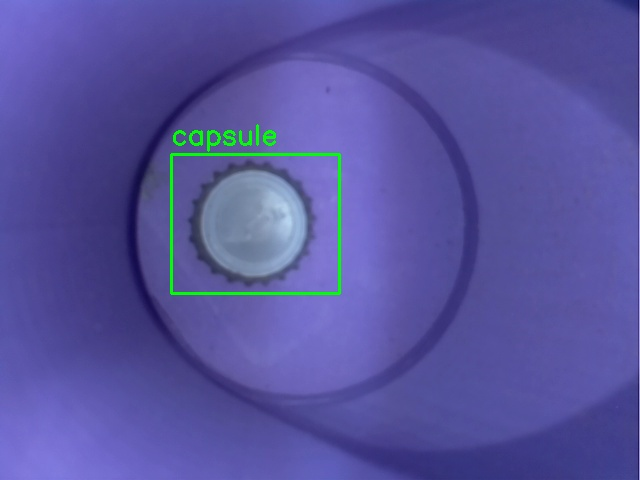capsule: (171, 154, 339, 293)
